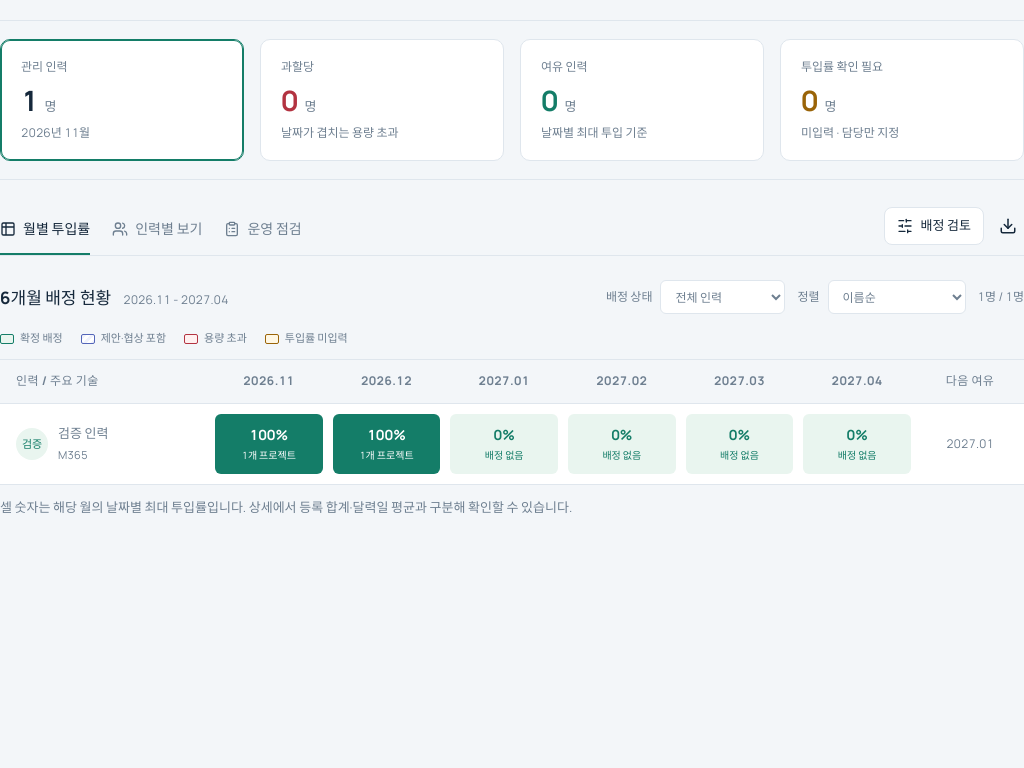
Test: staffing workflow › previews over-allocation without a save action
Click the button "배정 검토".
click(934, 226)  # box [884, 207, 984, 245]
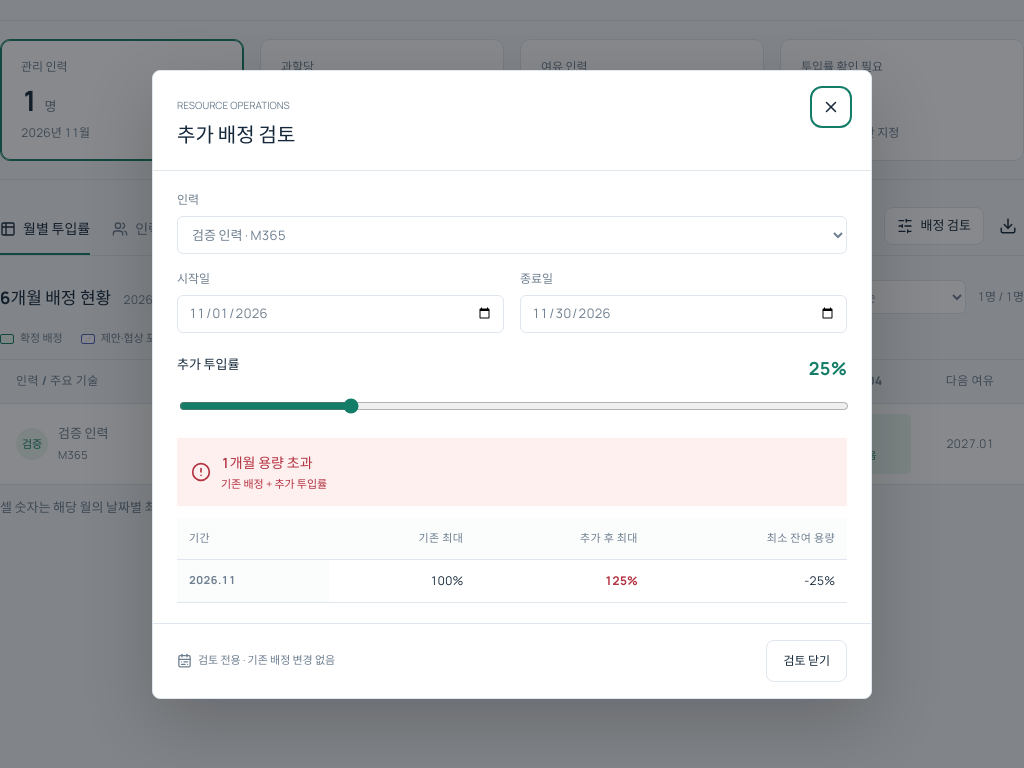
Expected: the message shows "1개월 용량 초과", [221, 452, 313, 472]
Set the slider labelled "추가 투입률" to "0" at (187, 406), box [179, 398, 849, 414]
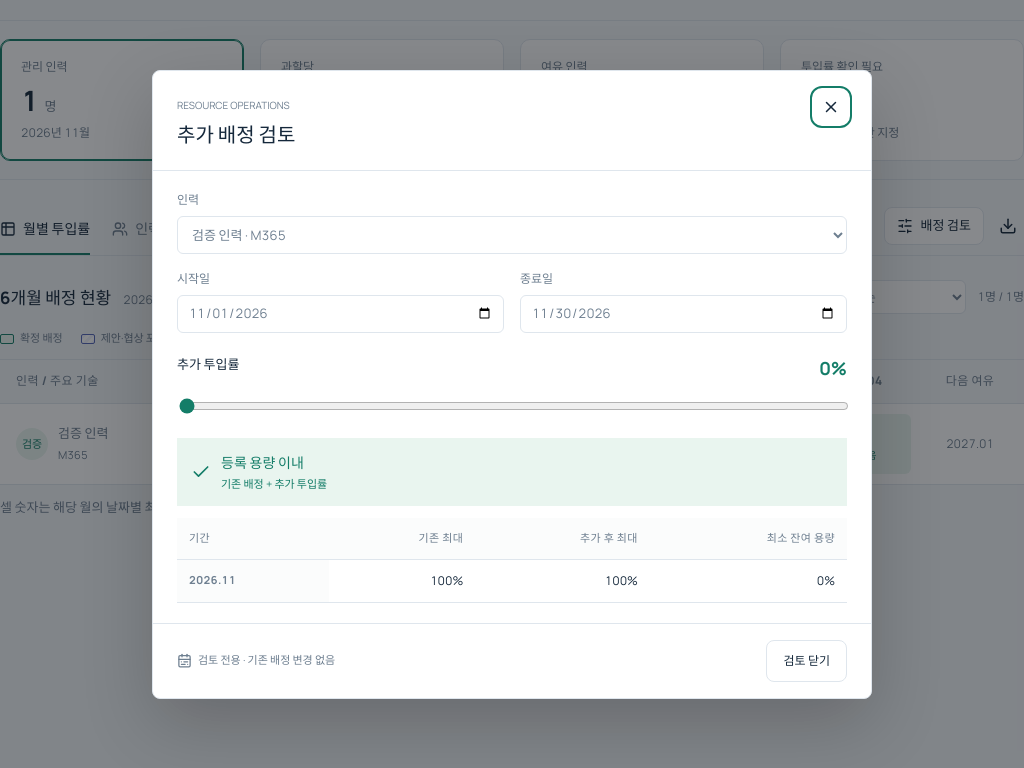
Expected: the message shows "등록 용량 이내", [221, 452, 304, 472]
